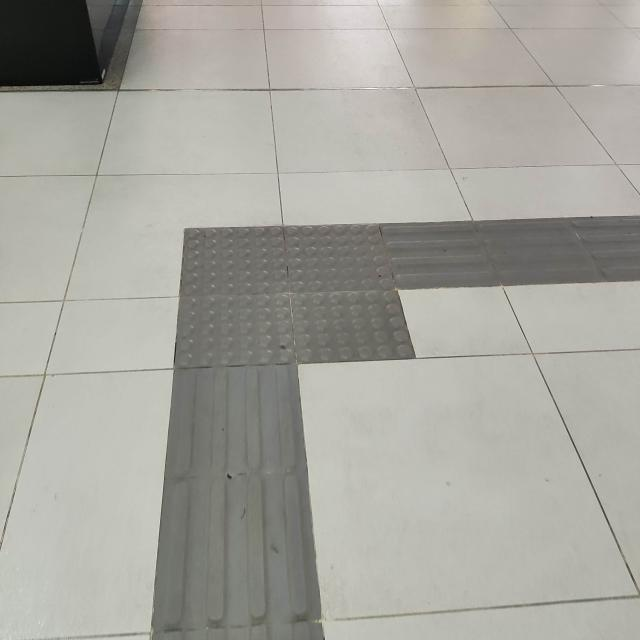kanan: (131, 177, 614, 413)
